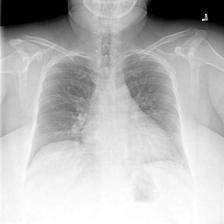normal: (21, 52, 192, 182)
